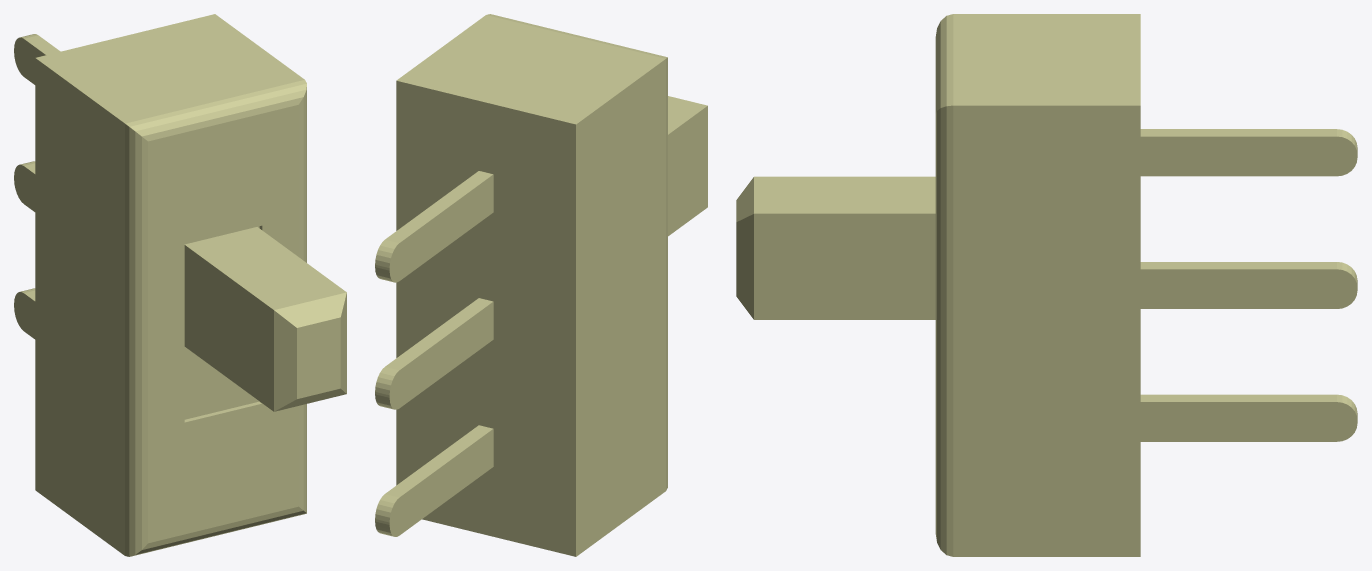
The model's file is pendulum_robot_sw2_ddxcgv.dae.
3 views of the same model, side by side, from view 1: azimuth 30°, elevation 25°; view 2: azimuth 150°, elevation 25°; view 3: azimuth 270°, elevation 25° (orthographic). The views are drawn at different scales.
Parts seen in each view (by area): view 1: node0; view 2: node0; view 3: node0.
Part boxes in pixels (left/top/right/bottom): node0: left=14, top=14, right=346, bottom=556; node0: left=375, top=14, right=707, bottom=556; node0: left=736, top=14, right=1357, bottom=556.
Bounding box in the file's own units: 0.0037 × 0.0106 × 0.0085.
